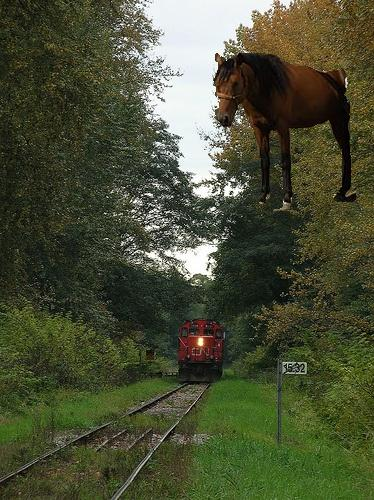tampered: (214, 54, 356, 211)
